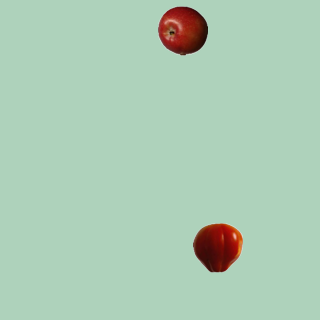Apple Braeburn: (157, 5, 207, 55)
Tomato 1: (192, 222, 242, 272)
